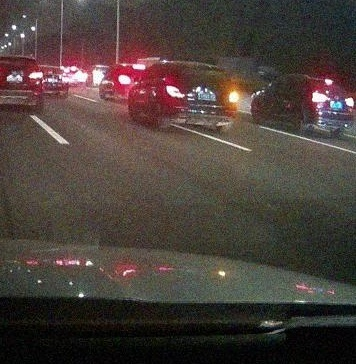L_light: (165, 86, 185, 98), (311, 93, 328, 103)
R_light: (227, 91, 238, 103), (344, 97, 354, 107)
T_light: (189, 66, 202, 70), (324, 79, 333, 84)
night-brake: (309, 77, 354, 138)
night-right: (164, 61, 238, 133)
